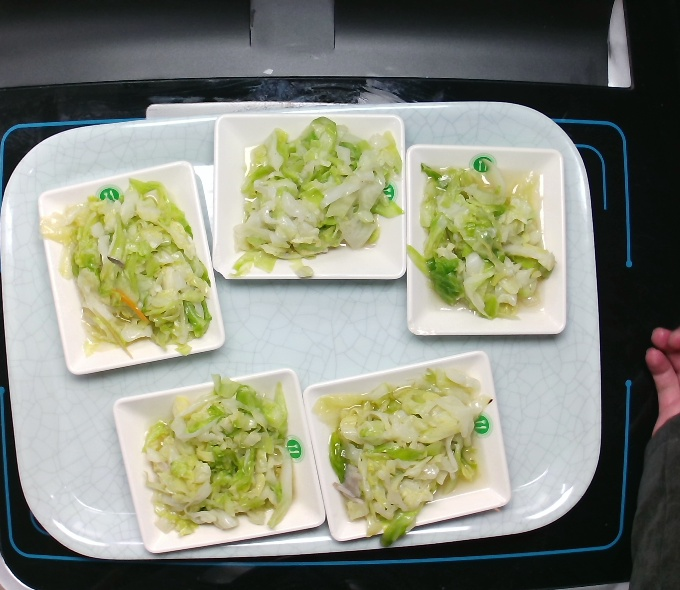wcq-JuanXinCai: (317, 362, 502, 546), (38, 179, 219, 359), (226, 109, 403, 289), (137, 373, 301, 539), (409, 147, 557, 324)
